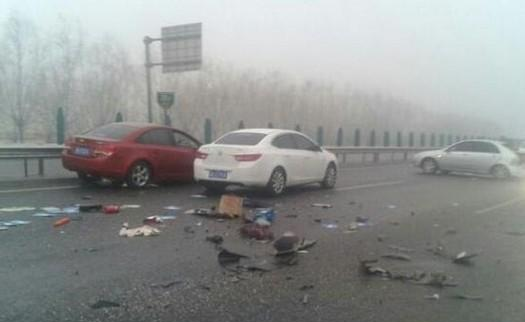car: (192, 125, 340, 194), (61, 122, 212, 188), (410, 137, 525, 182)
